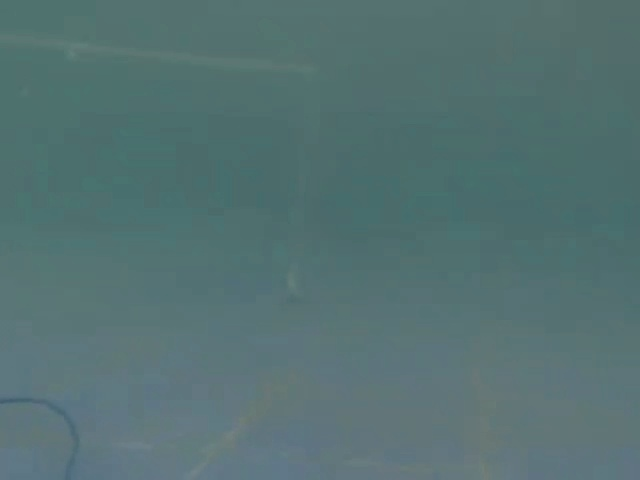gate: (0, 0, 370, 324)
